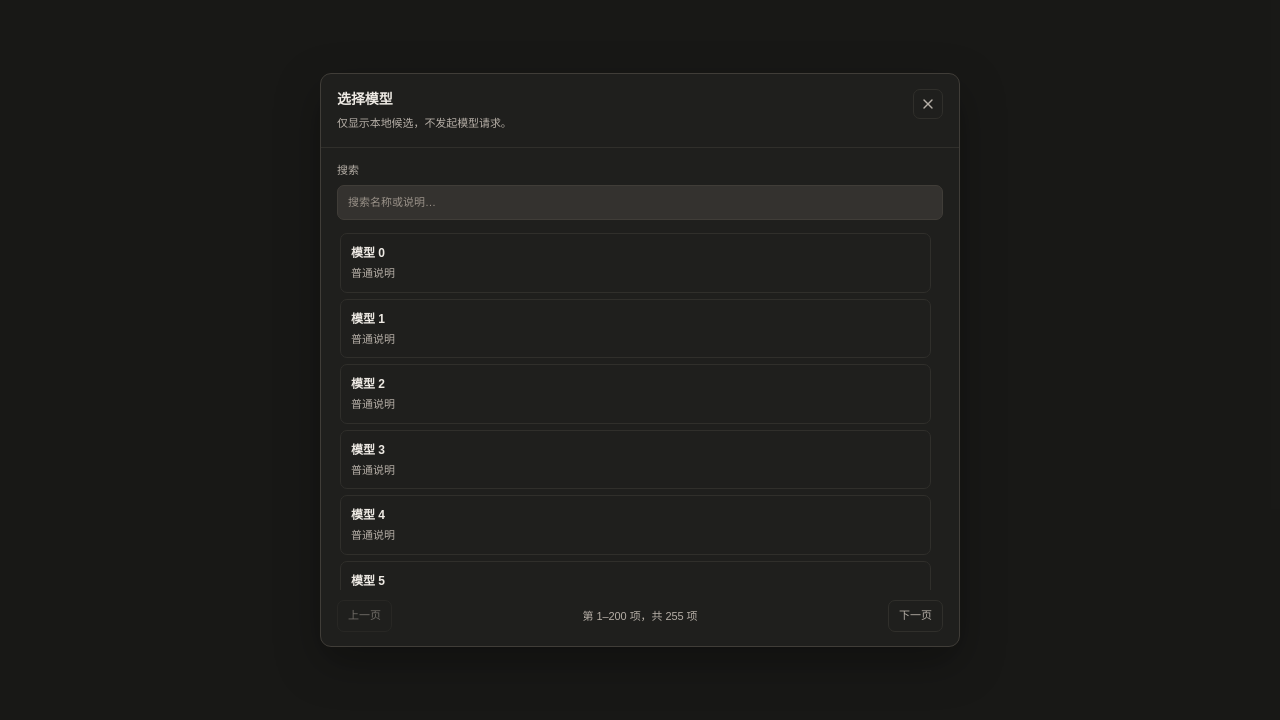
Test case: CommandDialog presentation and request-local search › pages through the full candidate list with at most 200 rows and searches all names and details
expect the text "模型 254" is not shown: met
expect the navigation bar named "候选项分页" shows "第 1–200 项，共 255 项": met, box [337,600,943,632]
Click the button "下一页" at {"x": 916, "y": 616}, box [888,600,943,632]
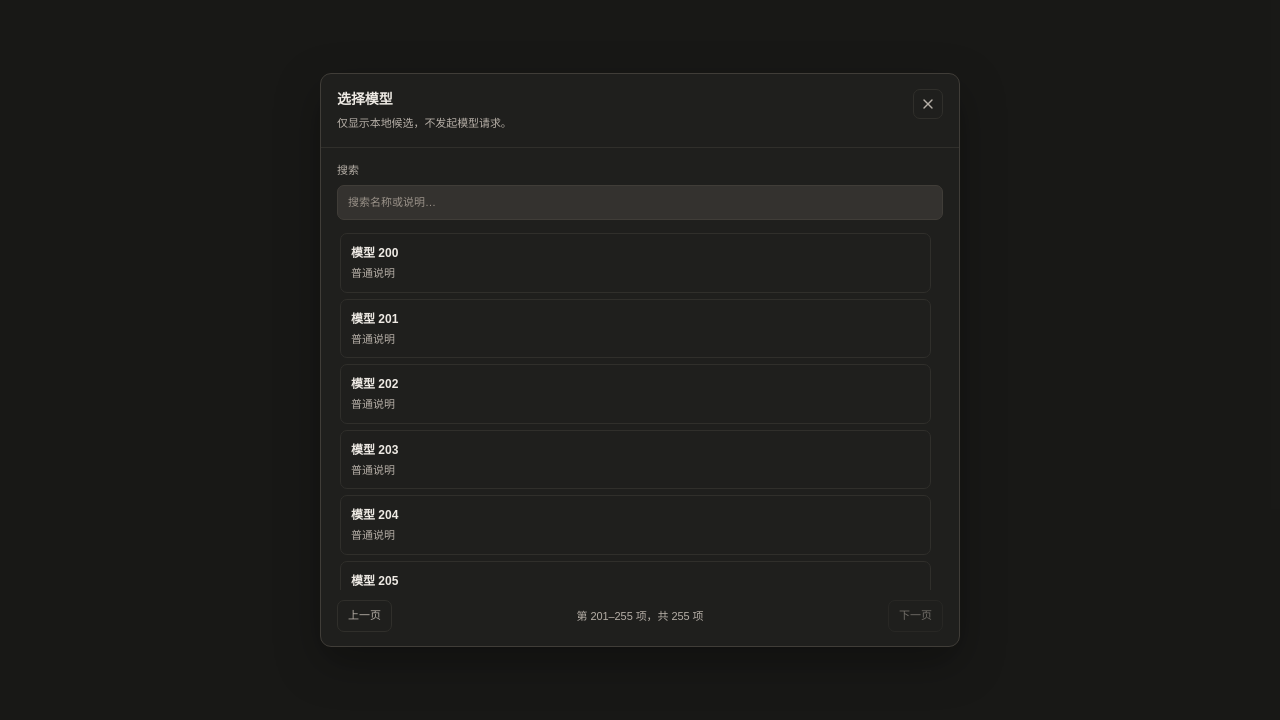
expect the button "下一页" is disabled: met, box [888,600,943,632]
Type "  needle 中文  " into the search field at {"x": 640, "y": 202}, box [337,185,943,220]
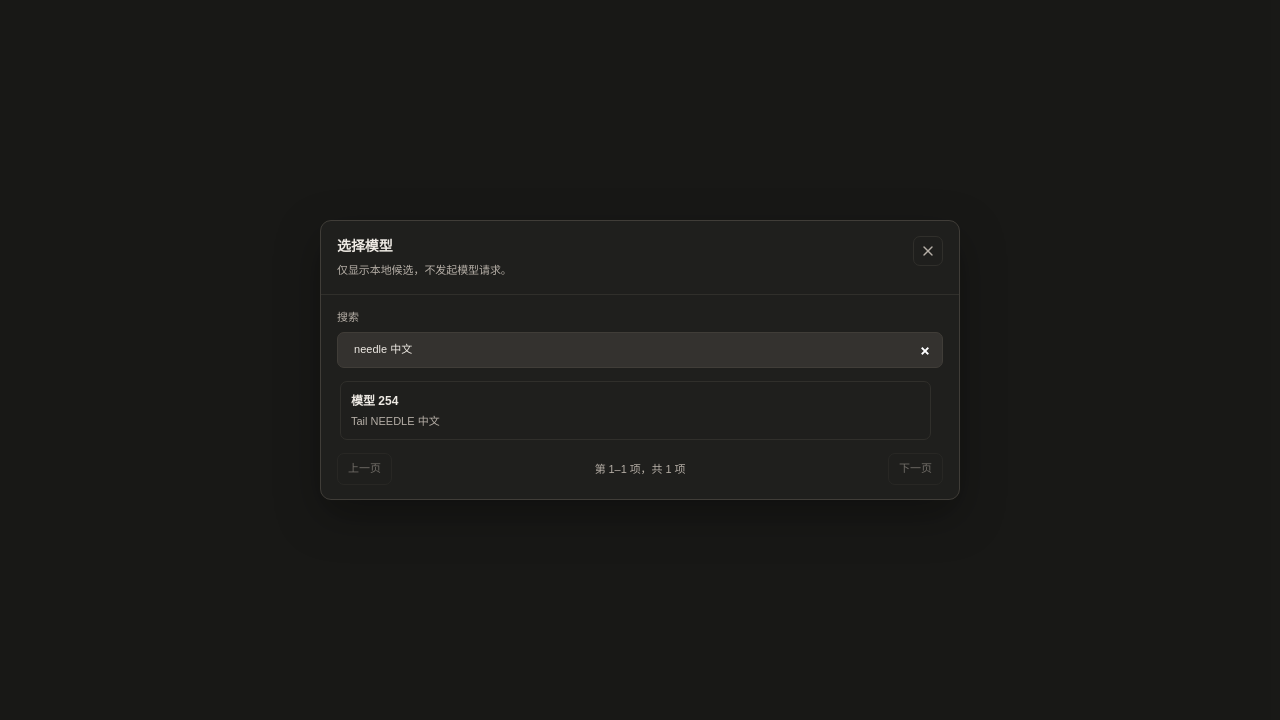
expect the number of list items is 1: met, box [340,381,931,440]
expect the navigation bar named "候选项分页" shows "第 1–1 项，共 1 项": met, box [337,453,943,485]
Replace the text in the search field with "模型 254" at {"x": 640, "y": 350}, box [337,332,943,368]
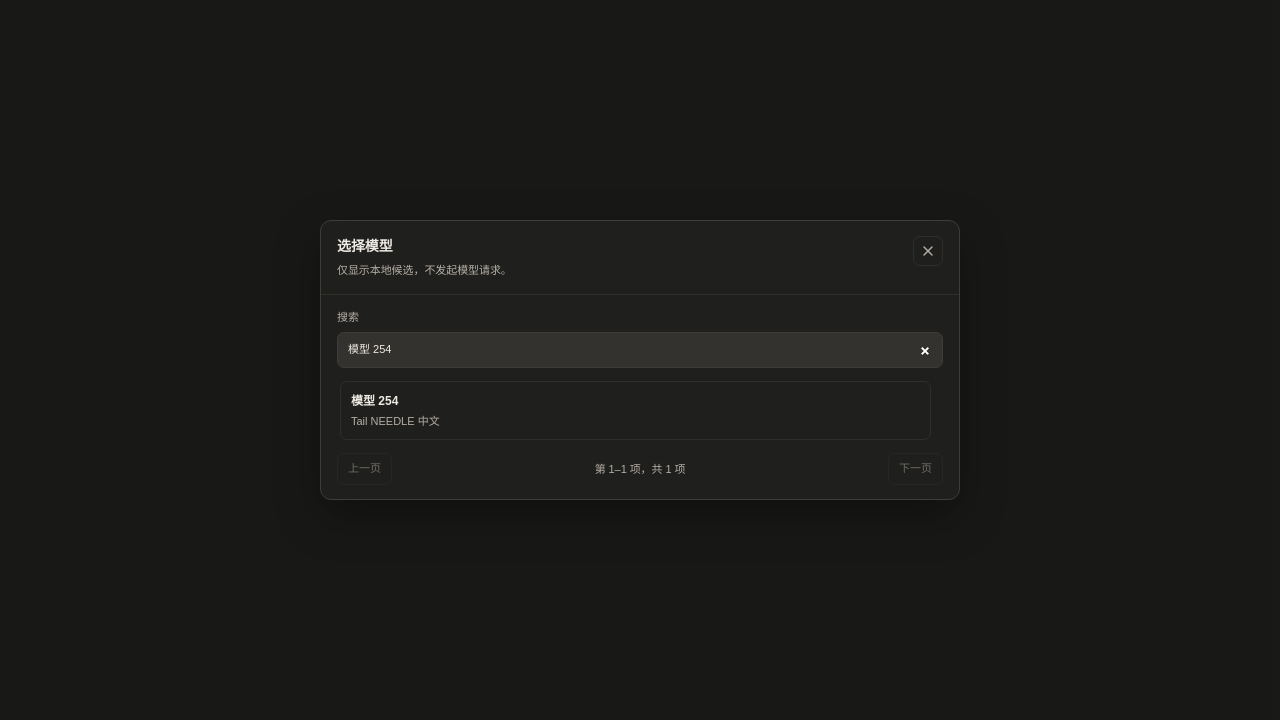
expect the number of list items is 1: met, box [340,381,931,440]
Replace the text in the search field with "opaque:254" at {"x": 640, "y": 350}, box [337,332,943,368]
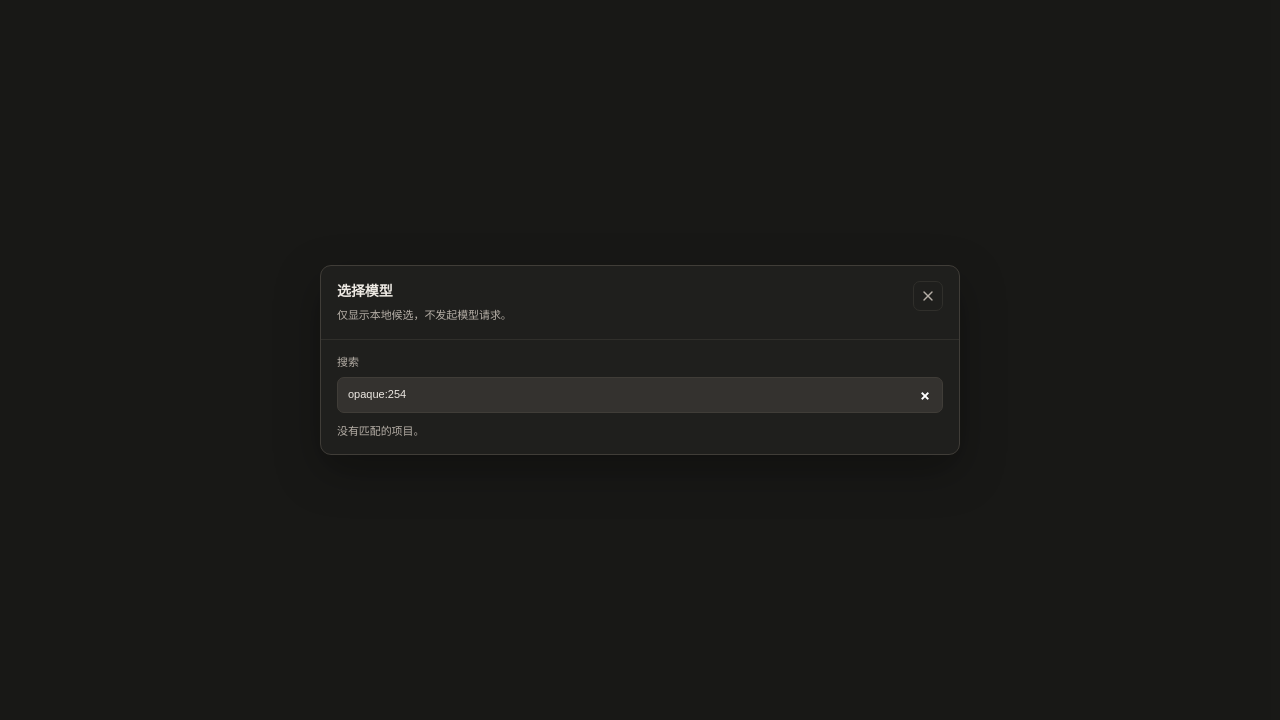
expect the list is gone: met
expect the navigation bar is gone: met
expect the message reads "没有匹配的项目。": met, box [337,425,424,437]
